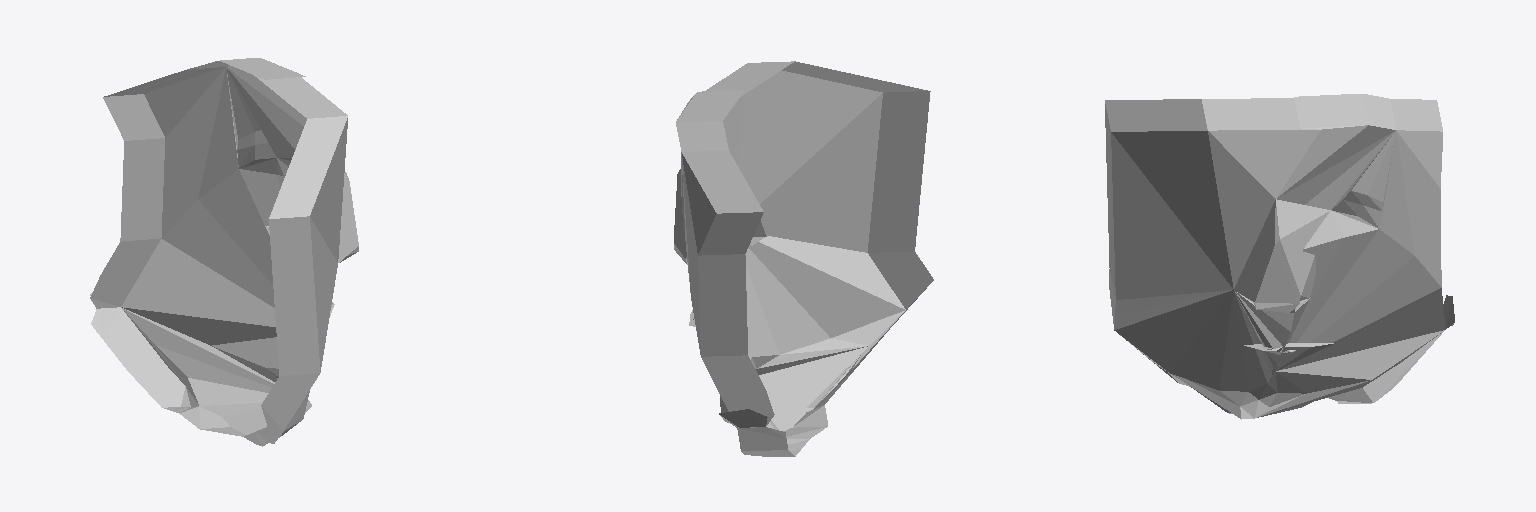
3 renders of one model, left to right at view 1: azimuth 30°, elevation 25°; view 2: azimuth 150°, elevation 25°; view 3: azimuth 270°, elevation 25°, orthographic.
Parts seen in each view (by area): view 1: PILOT.001; view 2: PILOT.001; view 3: PILOT.001.
Boxes of the visible parts, x1,y1,x2,y2 form: PILOT.001: [90, 58, 358, 446]; PILOT.001: [674, 61, 933, 456]; PILOT.001: [1105, 94, 1454, 419].
Bounding box in the file's own units: 0.0119 × 0.0208 × 0.0198.